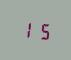five: (35, 20, 50, 41)
one: (19, 18, 34, 39)
